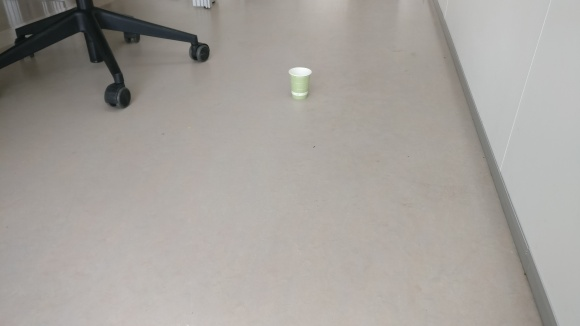cup: (287, 64, 312, 100)
